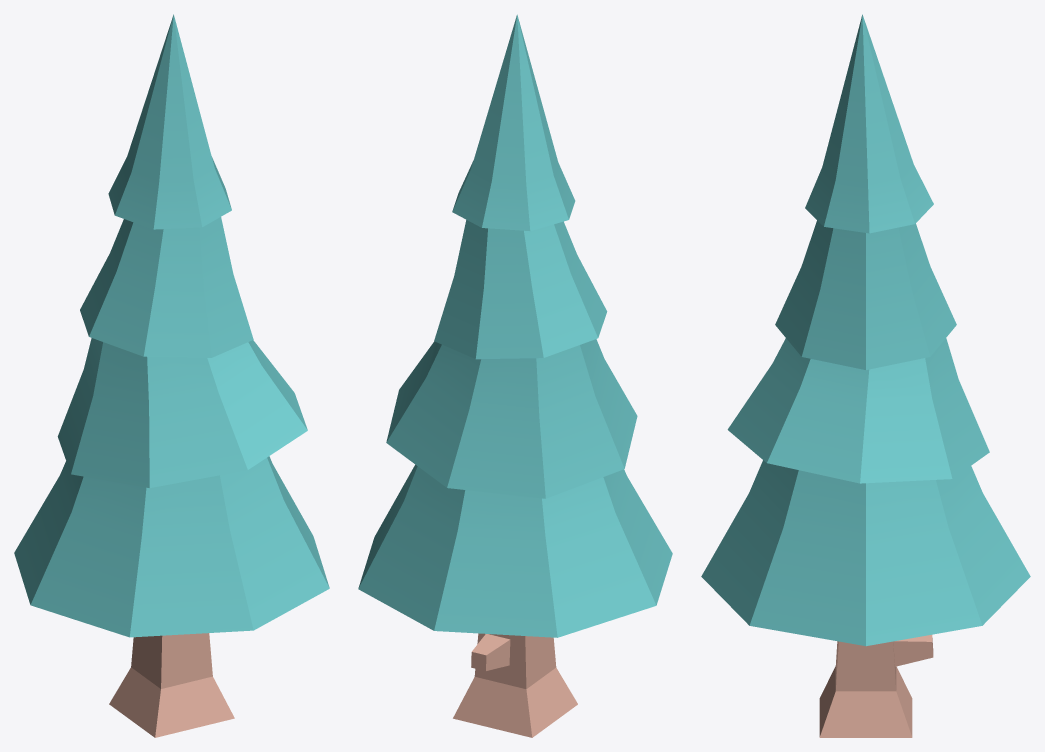
Rendered from tree_pineRoundF.glb.
The picture shows the model from 3 angles, left to right: view 1: azimuth 30°, elevation 25°; view 2: azimuth 150°, elevation 25°; view 3: azimuth 270°, elevation 25°; orthographic projection.
Parts seen in each view (by area): view 1: tree_pineRoundF; view 2: tree_pineRoundF; view 3: tree_pineRoundF.
Boxes of the visible parts, left/top/right/bottom form: tree_pineRoundF: left=14, top=14, right=329, bottom=737; tree_pineRoundF: left=358, top=14, right=672, bottom=737; tree_pineRoundF: left=701, top=14, right=1030, bottom=737.
Size of the model in its own units: 0.532 by 1.25 by 0.532.
